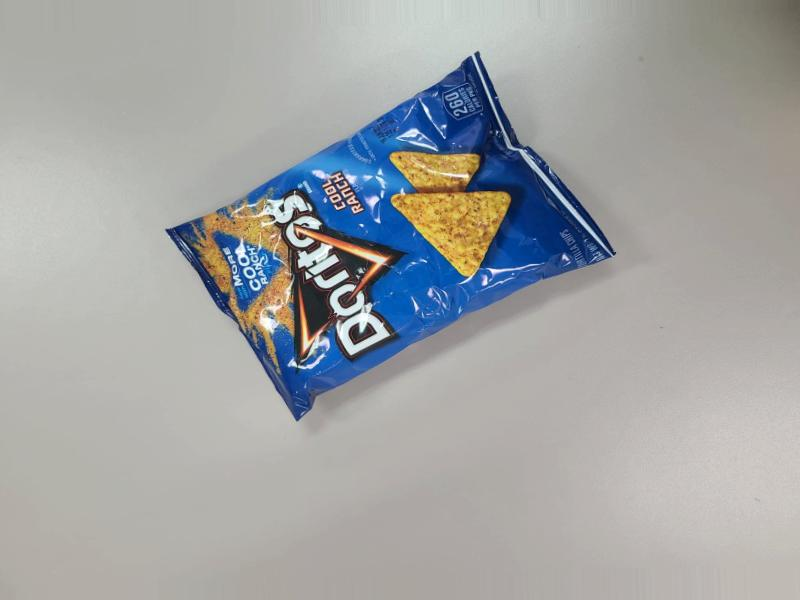doritos: (270, 80, 609, 501)
